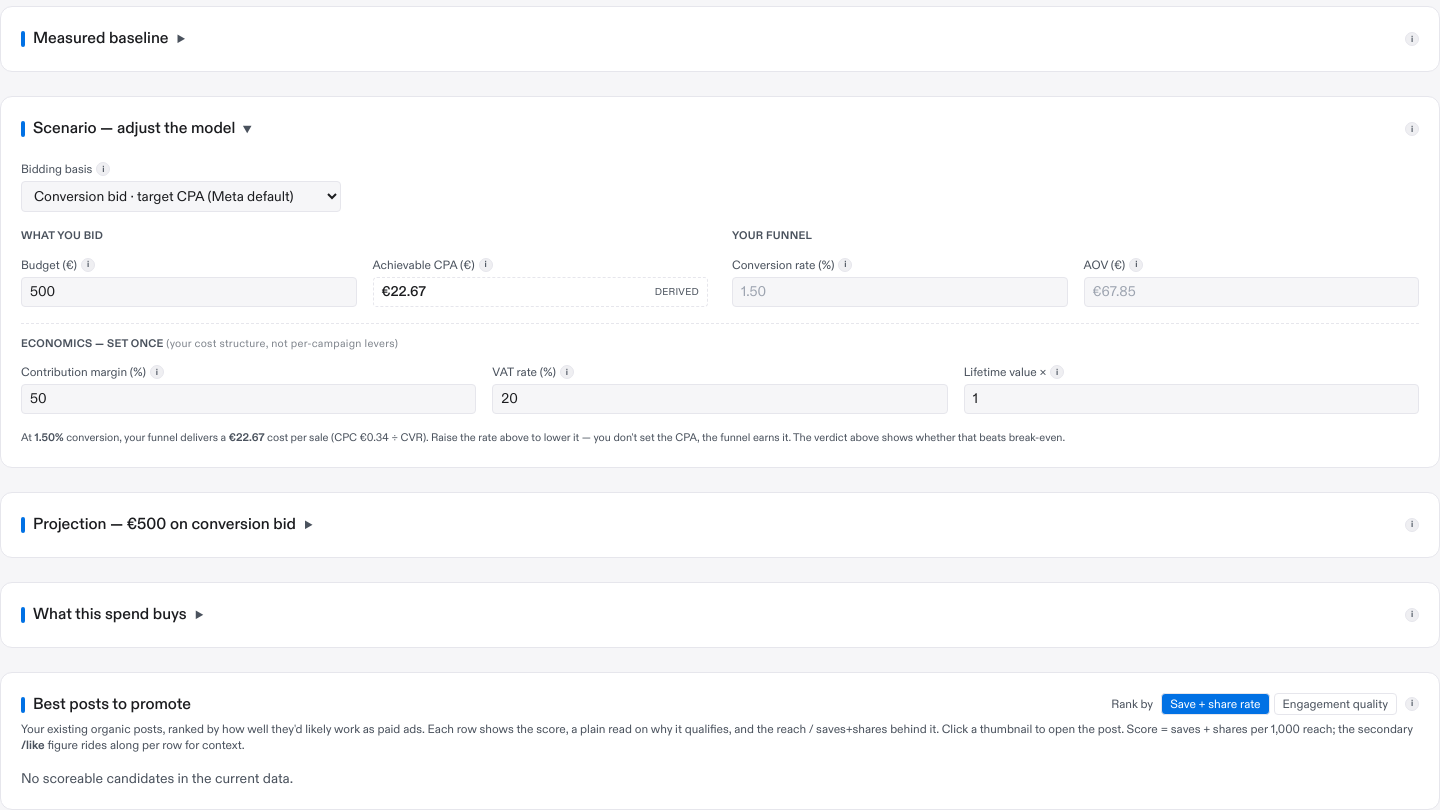
Test: PaidPanel wiring › forecast shows site visitors + A/B feasibility (even in conversion-bid mode)
The image size is (1440, 810).
(page scrolled)
Click the button "What this spend buys ▶" at (112, 615), box [21,603,203,627]
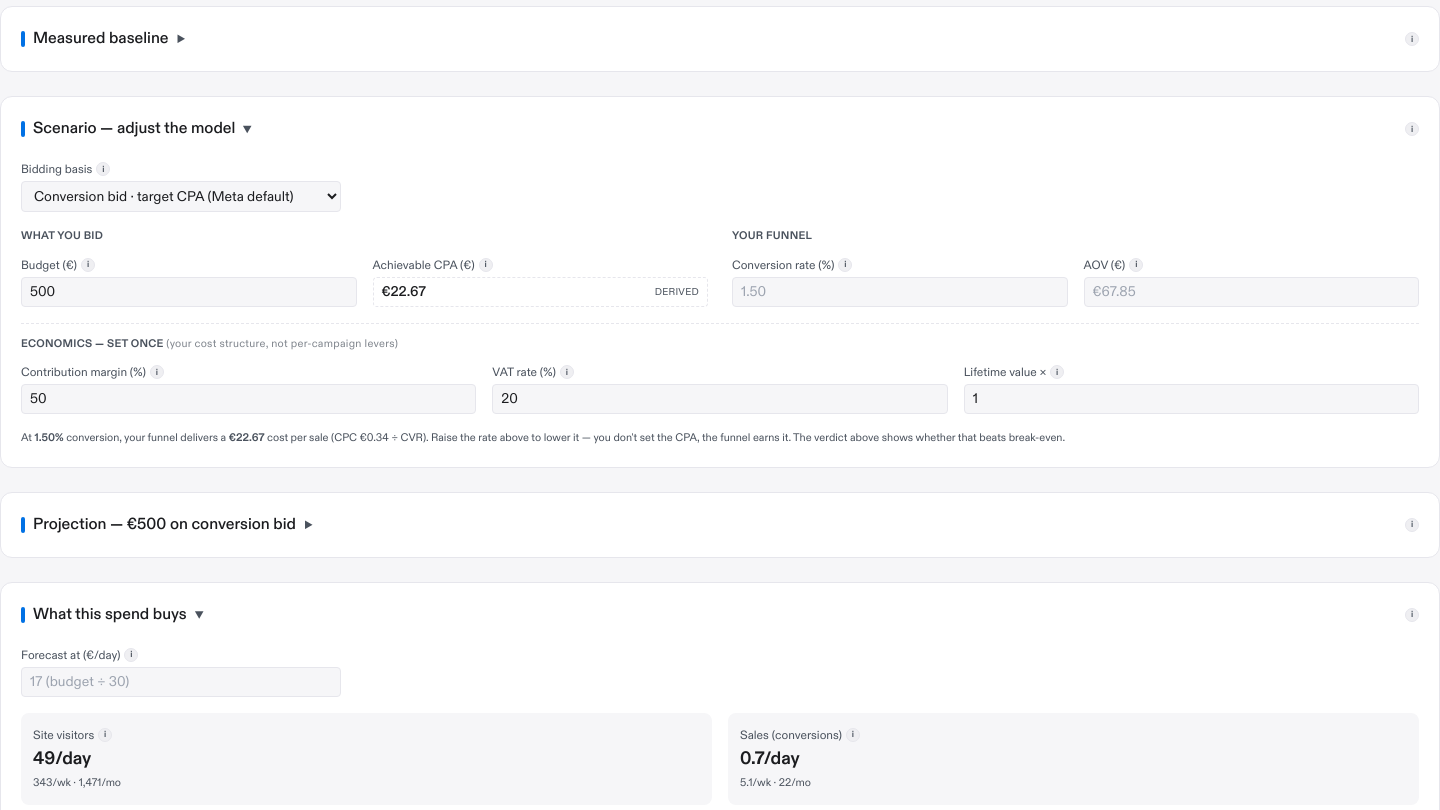
Expected: the text "Site visitors i" is shown, [33,727,112,743]
Expected: the text "Forecast at (€/day) i" is shown, [21,647,138,663]
